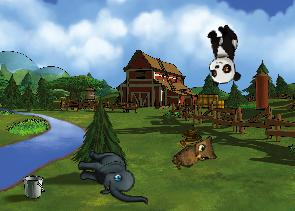elephant: (77, 149, 148, 207)
owl: (169, 131, 223, 181)
panda: (203, 23, 242, 86)
